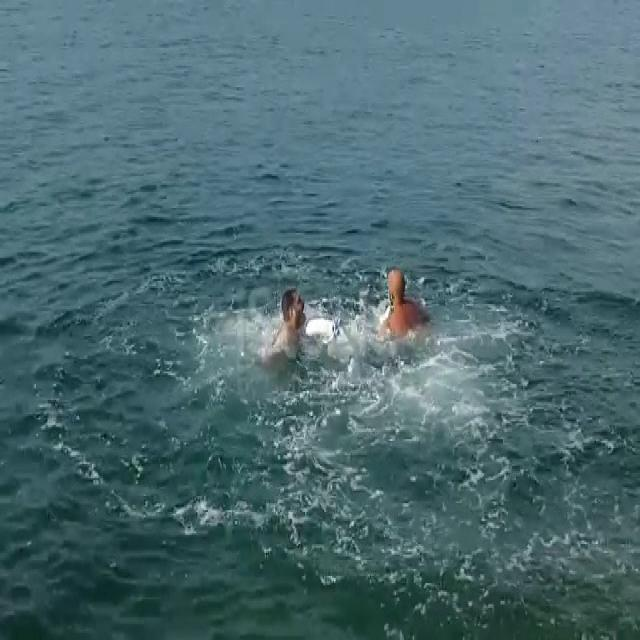Out of Water: (270, 291, 309, 375)
drowning: (378, 270, 423, 346)
